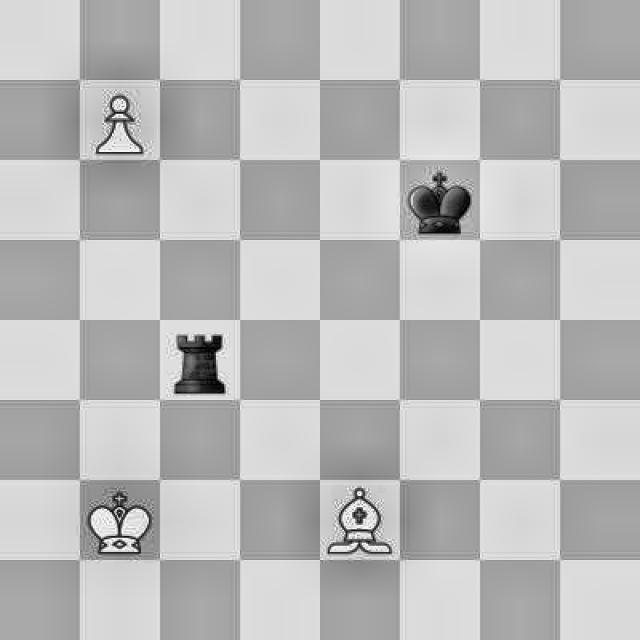black king: (402, 154, 474, 238)
black rook: (160, 323, 233, 398)
white bishop: (320, 480, 392, 554)
white king: (85, 486, 155, 557)
white pawn: (83, 85, 156, 158)
